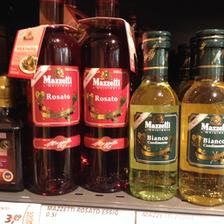Essig: (7, 0, 80, 196), (80, 0, 126, 192), (128, 28, 176, 202), (178, 28, 223, 208)
